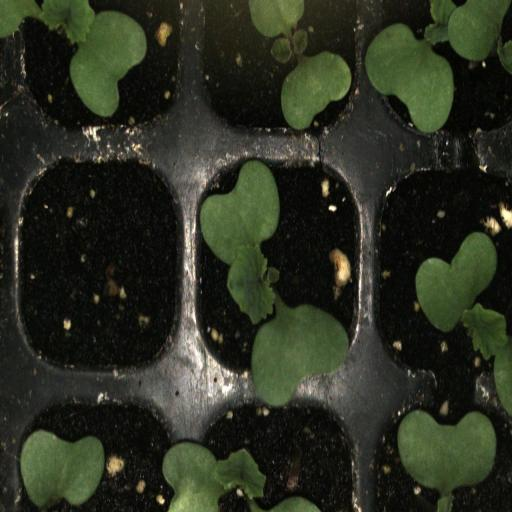noseedling: (8, 144, 192, 381)
seedling: (194, 144, 368, 385), (373, 146, 512, 386), (193, 0, 368, 142)
twoseedling: (372, 0, 512, 145)
